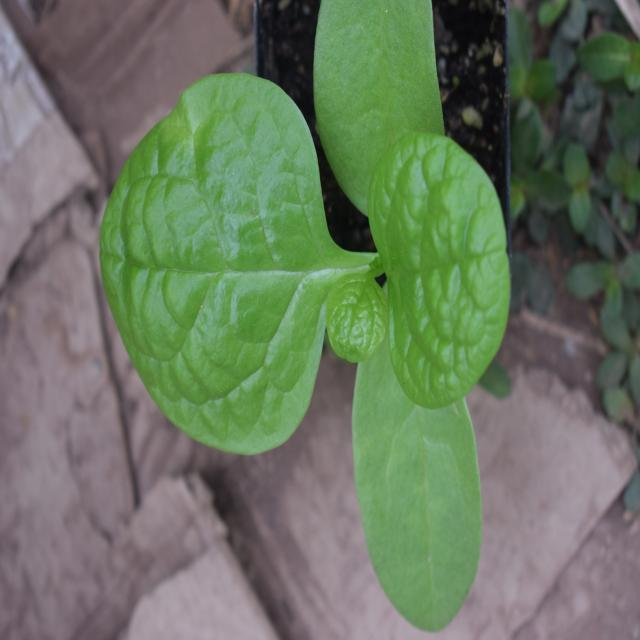Ceylon spinach: (111, 0, 510, 614)
